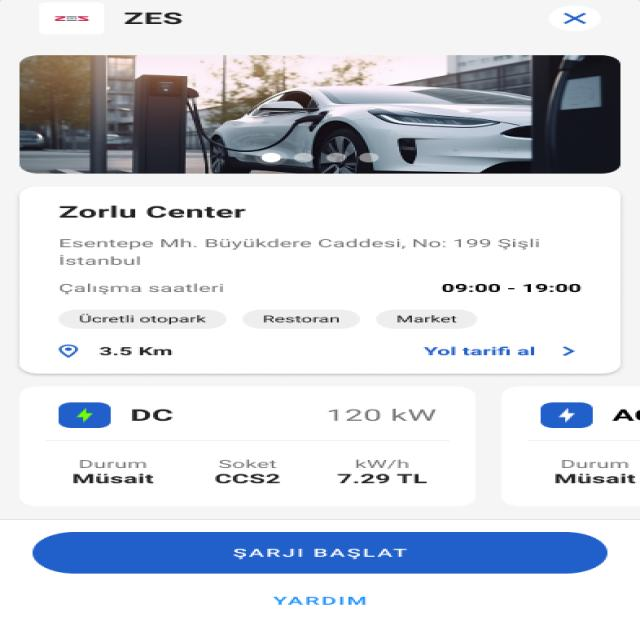QLabel: (54, 237, 545, 250), (53, 202, 253, 222), (225, 546, 412, 560), (53, 282, 228, 295), (436, 281, 585, 296), (324, 406, 440, 424), (420, 344, 541, 358), (266, 594, 368, 609), (543, 471, 639, 486), (337, 472, 430, 486), (52, 254, 146, 266), (70, 473, 154, 486), (93, 345, 174, 358), (557, 457, 633, 470), (72, 458, 146, 471), (122, 11, 184, 25), (125, 408, 173, 423), (212, 474, 283, 484), (351, 458, 410, 470), (213, 460, 278, 469), (606, 408, 640, 422)
VBtn: (33, 532, 609, 574), (34, 586, 610, 615)
VCard: (20, 186, 624, 374), (17, 386, 479, 508), (503, 385, 640, 508)
VChip: (56, 308, 228, 329), (242, 310, 360, 328), (374, 310, 480, 329)
VDivider: (38, 438, 454, 443), (521, 438, 640, 443)
VFooter: (0, 519, 640, 640)
VIcon: (549, 8, 601, 30), (51, 342, 84, 360), (552, 345, 582, 358)
VImg: (19, 56, 620, 175), (42, 5, 108, 33), (539, 402, 594, 429), (58, 402, 112, 428)
